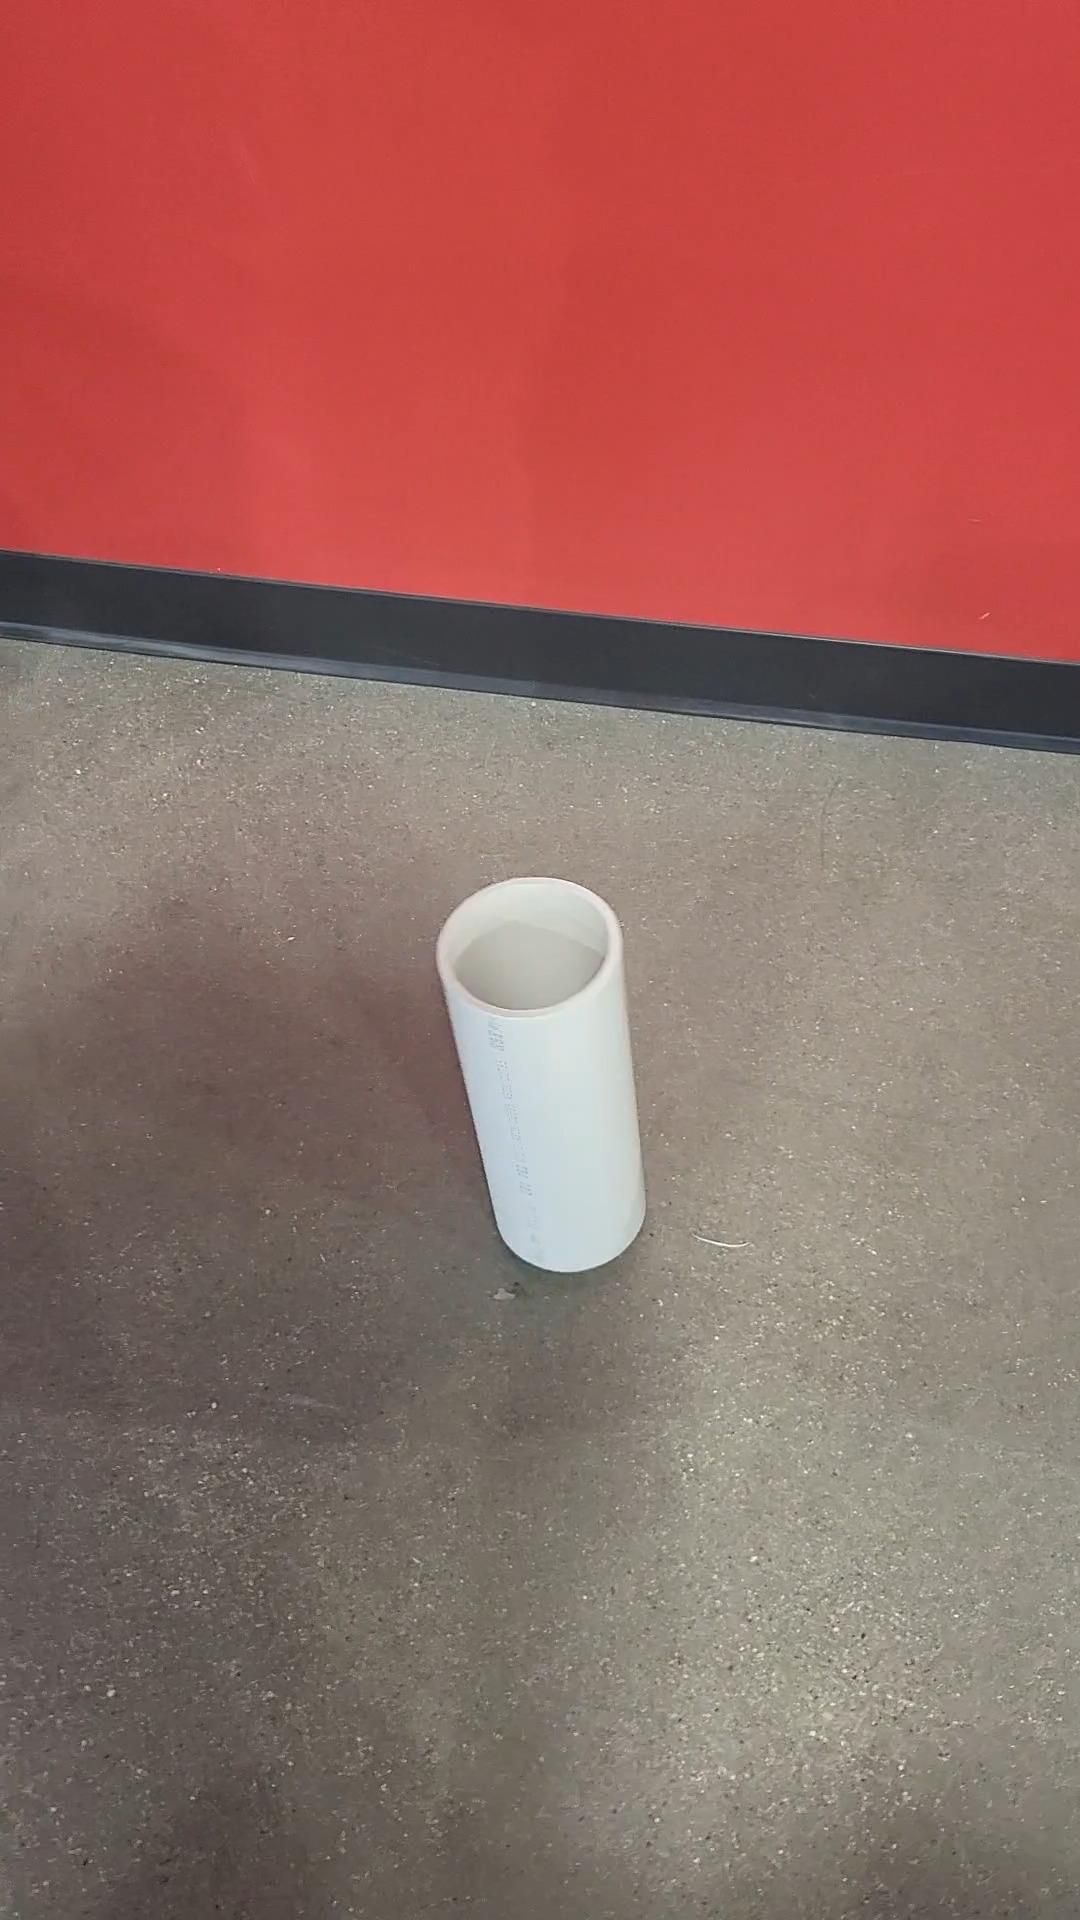coral: (435, 872, 650, 1275)
